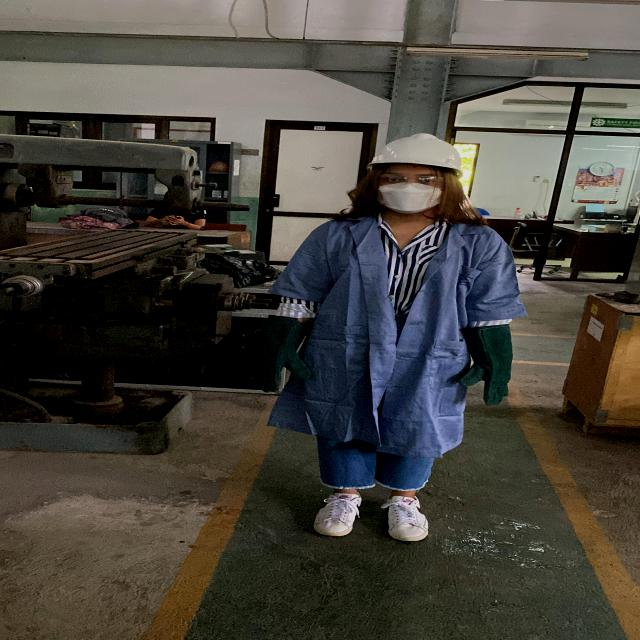face_mask: (370, 168, 445, 216)
glasses: (375, 172, 450, 189)
hand_glove: (446, 346, 527, 408), (237, 343, 325, 395)
head_helmet: (364, 131, 466, 175)
person: (247, 131, 545, 546)
shoes: (370, 490, 440, 547), (302, 487, 372, 542)
